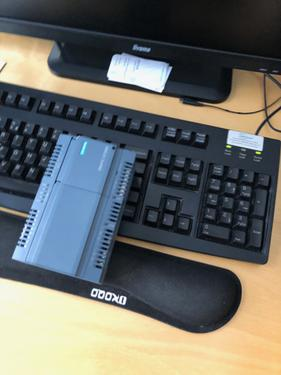device: (12, 134, 137, 285)
